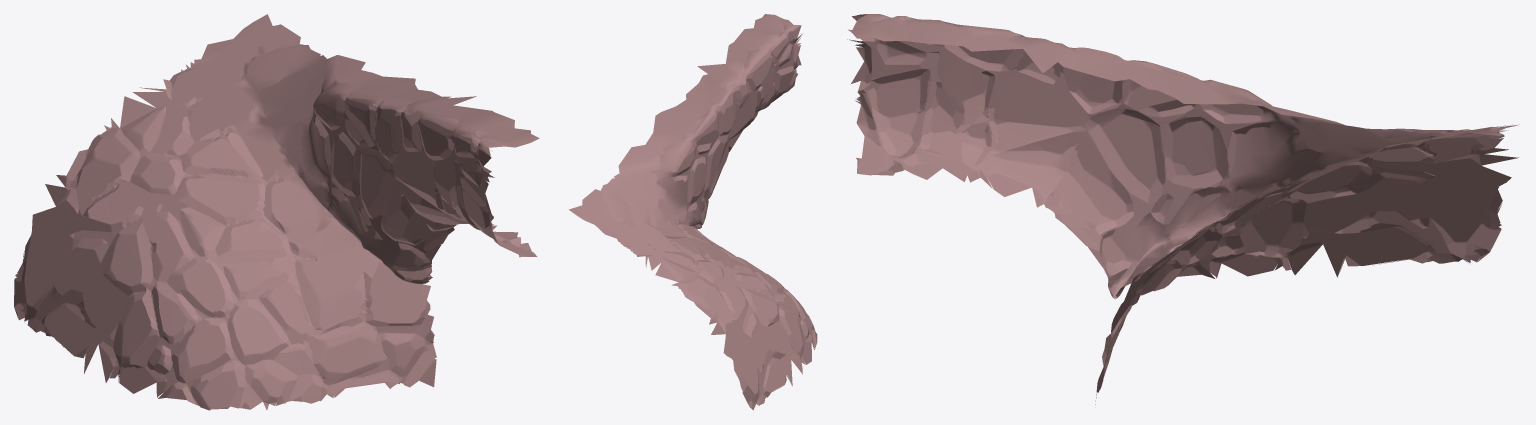
Rendered from mini_canyon.fbx_Cube__12__014LODs.fbx.
3 views of the same model, side by side, from view 1: azimuth 30°, elevation 25°; view 2: azimuth 150°, elevation 25°; view 3: azimuth 270°, elevation 25° (orthographic). The views are drawn at different scales.
Parts seen in each view (by area): view 1: Cube (12).014_LOD0; view 2: Cube (12).014_LOD0; view 3: Cube (12).014_LOD0.
Part boxes in pixels (x1=…): Cube (12).014_LOD0: x1=14, y1=14, x2=539, y2=410; Cube (12).014_LOD0: x1=569, y1=14, x2=817, y2=410; Cube (12).014_LOD0: x1=847, y1=14, x2=1519, y2=404.
Size of what is drawn, in the model's own units: 4692 by 5433 by 8769.
